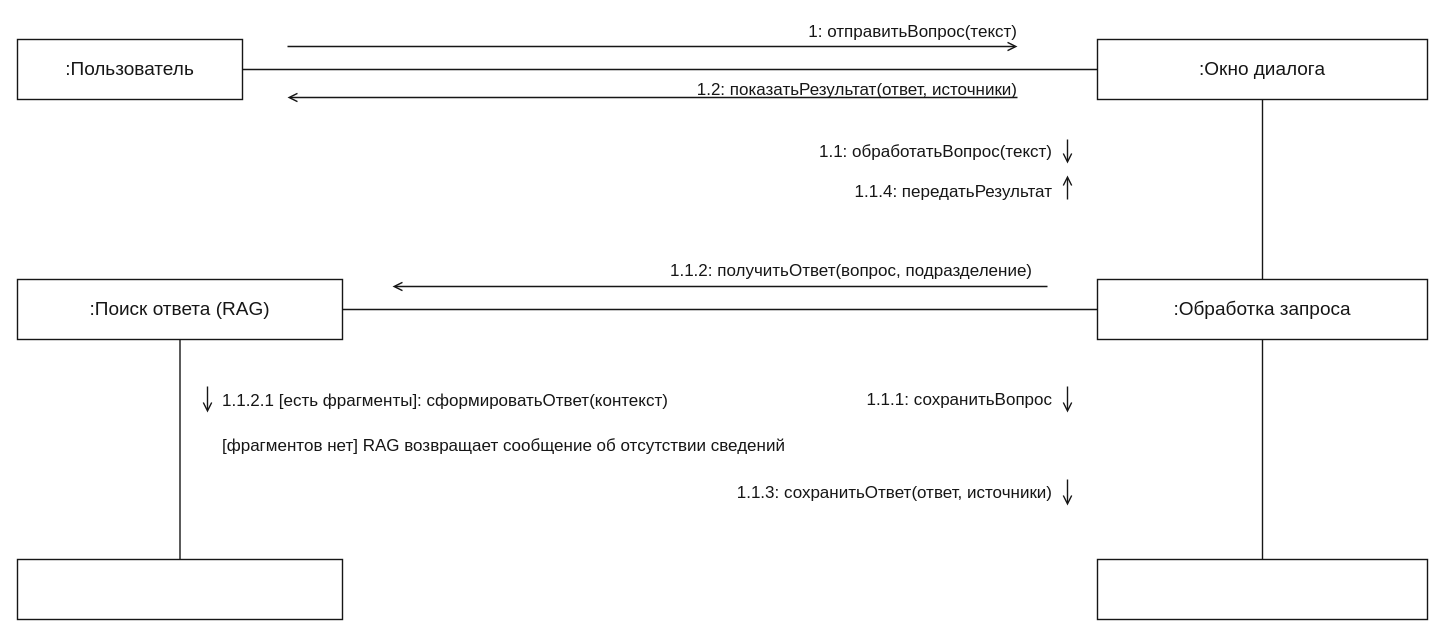
Some shapes in this 1446 by 637 pixel diagram are drawn without their labels. Each missing label, with the box of its shape:
:История диалога: (1096, 558, 1428, 620)
:Языковая модель: (16, 558, 343, 620)
